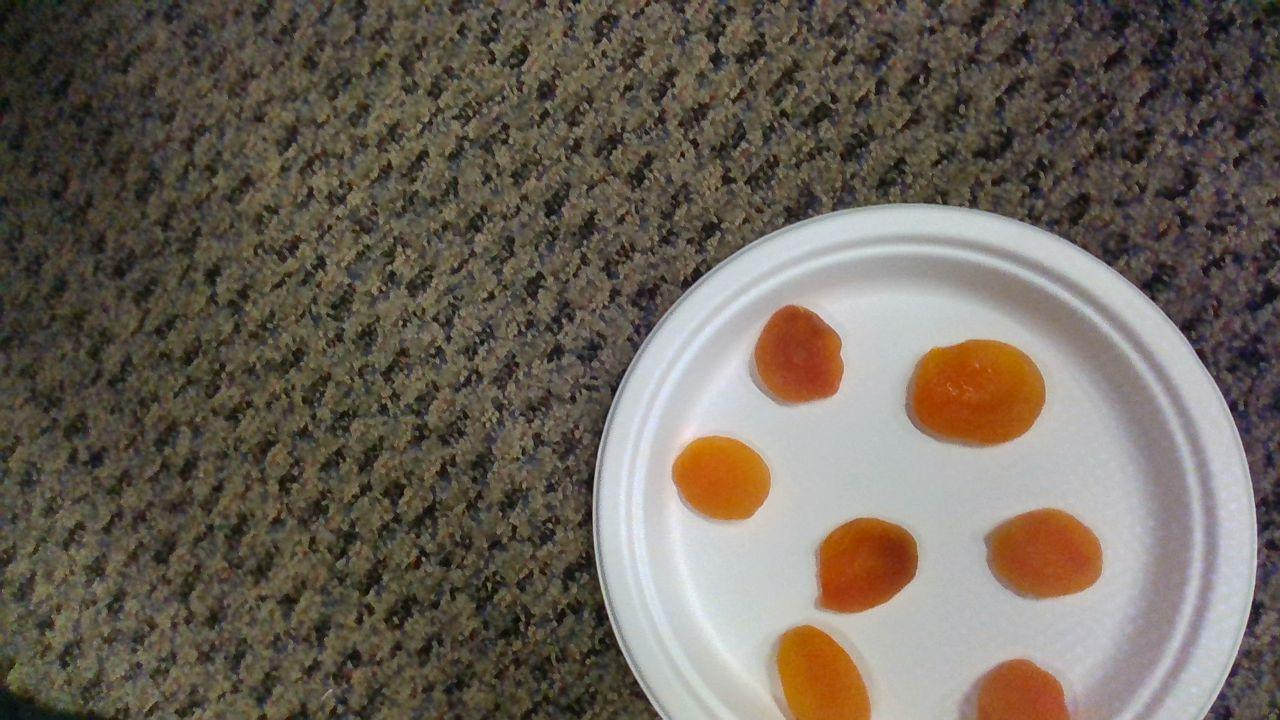apricot: (914, 340, 1046, 443), (995, 509, 1103, 596), (820, 518, 919, 612), (778, 625, 871, 719), (755, 305, 845, 402), (673, 437, 771, 519), (976, 657, 1069, 720)
plate: (593, 205, 1256, 720)
